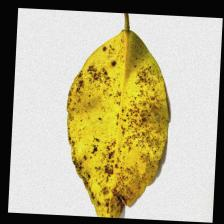canker: (83, 80, 159, 177)
